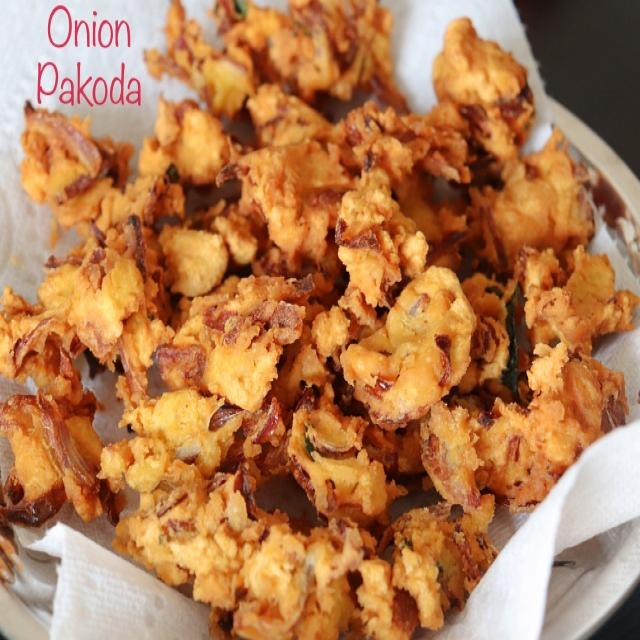BAJI: (0, 0, 635, 639)
